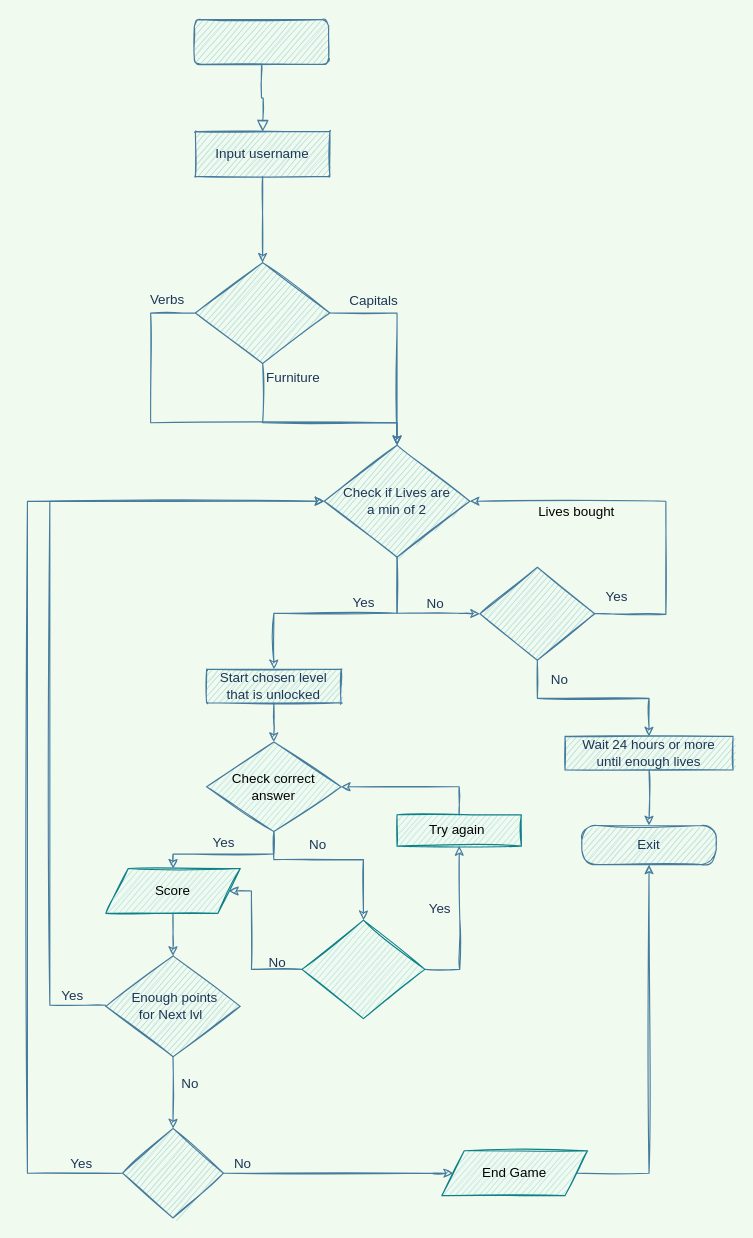
Some shapes in this 753 by 1238 pixel diagram are drawn without their labels. Here are the shapes that lost their labels. From the top down, the centre of each, then its label:
At pixel 261 41: "Start".
At pixel 262 312: "Choose a category".
At pixel 537 613: "Buy lives".
At pixel 363 969: "Check if there are enough redo's".
At pixel 172 1172: "Play again".
